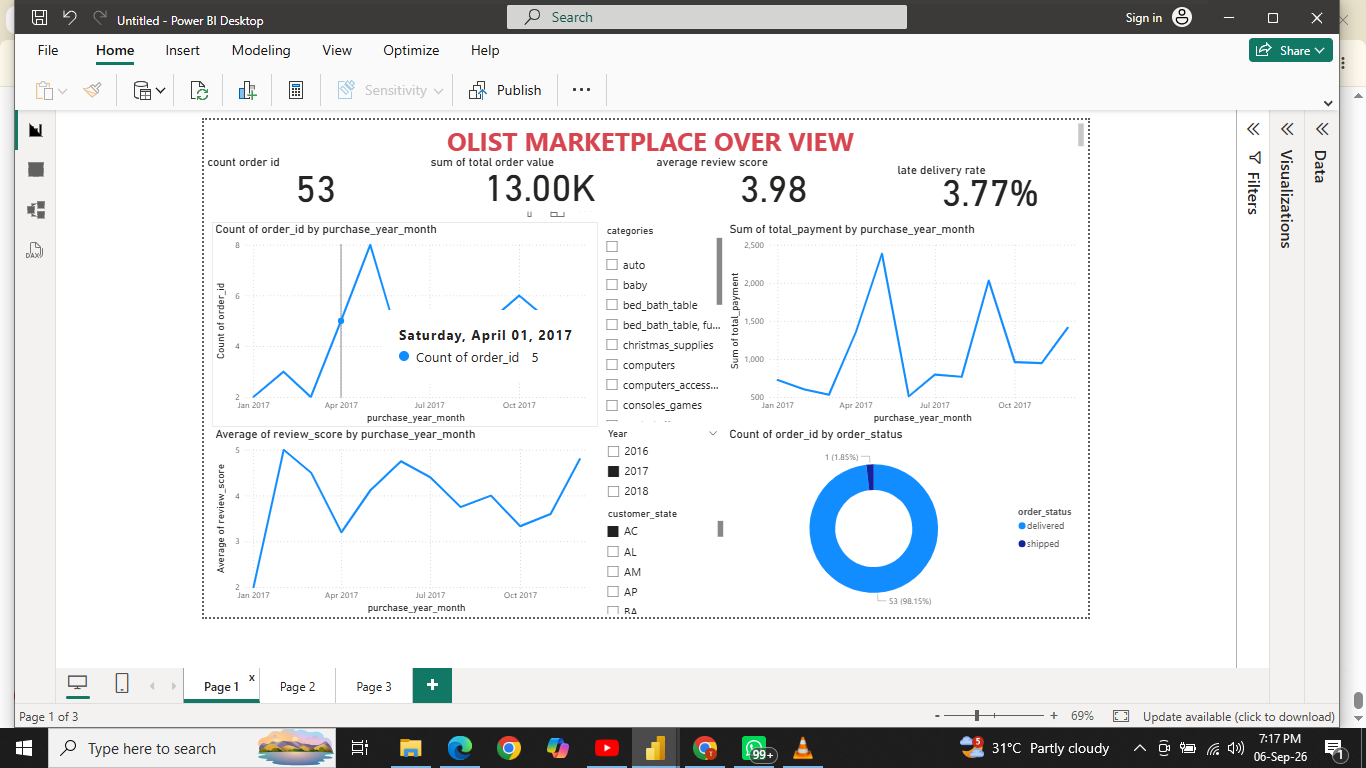

The dashboard page shown, as its layout file describes it:
{"tool":"powerbi","page":{"name":"Page 1","canvas":[1280,720],"ordinal":0},"visuals":[{"type":"card","title":"average ","box":[93.7,296.9,317.1,73.5],"z":0},{"type":"card","title":"count order id","fields":{"Values":["Count(olist_master_for_powerbi.order_id)"]},"box":[0,50.5,322.9,85],"z":1000},{"type":"card","title":"average review score","fields":{"Values":["Avg(olist_master_for_powerbi.review_score)"]},"box":[650.1,50.5,350.3,85],"z":2000},{"type":"card","title":"late delivery rate ","fields":{"Values":["olist_master_for_powerbi.Late_Delivery_Rate"]},"box":[1000.4,62,279.6,75],"z":3000},{"type":"lineChart","fields":{"Category":["olist_master_for_powerbi.purchase_year_month"],"Y":["Count(olist_master_for_powerbi.order_id)"]},"box":[11.5,148.3,560.2,296.6],"z":4000},{"type":"lineChart","fields":{"Category":["olist_master_for_powerbi.purchase_year_month"],"Y":["Sum(olist_master_for_powerbi.total_payment)"]},"box":[756,148.3,524.2,296.6],"z":5000},{"type":"lineChart","fields":{"Category":["olist_master_for_powerbi.purchase_year_month"],"Y":["Avg(olist_master_for_powerbi.review_score)"]},"box":[11.5,445.4,562.2,275.3],"z":6000},{"type":"donutChart","fields":{"Category":["olist_master_for_powerbi.order_status"],"Y":["Count(olist_master_for_powerbi.order_id)"]},"box":[756.8,445.4,523.2,275.3],"z":7000},{"type":"textbox","box":[0,0,1280,50.5],"z":8000},{"type":"slicer","fields":{"Values":["olist_master_for_powerbi.order_purchase_timestamp.Variation.Date Hierarchy.Year"]},"box":[572.3,442.5,184.5,115.3],"z":9000},{"type":"slicer","fields":{"Values":["olist_master_for_powerbi.customer_state"]},"box":[572.3,557.8,184.5,162.9],"z":10000},{"type":"slicer","fields":{"Values":["olist_master_for_powerbi.categories"]},"box":[570.8,148.5,184.5,294.1],"z":11000},{"type":"card","title":"sum of total order value","fields":{"Values":["Sum(olist_master_for_powerbi.total_payment)"]},"box":[322.9,50.5,327.2,82.2],"z":12000}]}

Visuals, with their boxes on the page's 1280x720 design canvas (x1, y1, x2, y2). These are canvas units, not pixel positions in the 1366x768 screenshot, which may show the page scaled, cropped or inside an application window:
"average " card: bbox=[94, 297, 411, 370]
"count order id" card: bbox=[0, 50, 323, 136]
"average review score" card: bbox=[650, 50, 1000, 136]
"late delivery rate " card: bbox=[1000, 62, 1280, 137]
lineChart - olist_master_for_powerbi.purchase_year_month x Count(olist_master_for_powerbi.order_id): bbox=[12, 148, 572, 445]
lineChart - olist_master_for_powerbi.purchase_year_month x Sum(olist_master_for_powerbi.total_payment): bbox=[756, 148, 1280, 445]
lineChart - olist_master_for_powerbi.purchase_year_month x Avg(olist_master_for_powerbi.review_score): bbox=[12, 445, 574, 721]
donutChart - olist_master_for_powerbi.order_status x Count(olist_master_for_powerbi.order_id): bbox=[757, 445, 1280, 721]
textbox: bbox=[0, 0, 1280, 50]
slicer - olist_master_for_powerbi.order_purchase_timestamp.Variation.Date Hierarchy.Year: bbox=[572, 442, 757, 558]
slicer - olist_master_for_powerbi.customer_state: bbox=[572, 558, 757, 721]
slicer - olist_master_for_powerbi.categories: bbox=[571, 148, 755, 443]
"sum of total order value" card: bbox=[323, 50, 650, 133]
